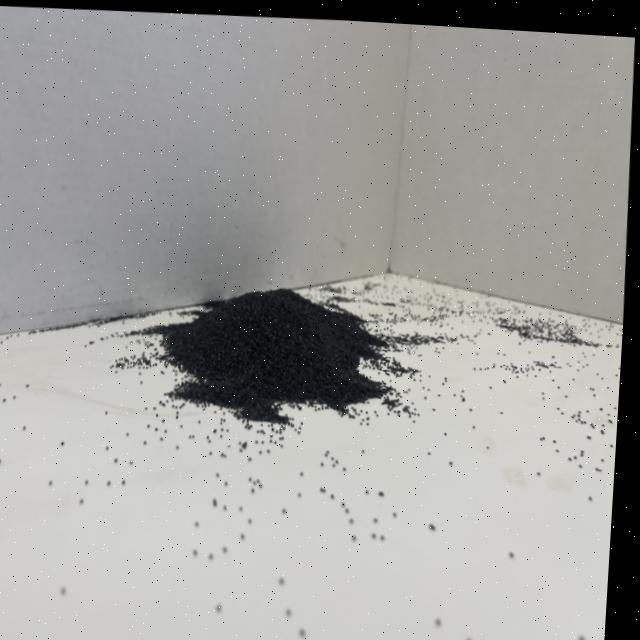Poppy Seeds: (132, 260, 420, 453)
